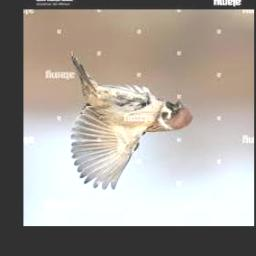Sparrow: (71, 51, 194, 190)
